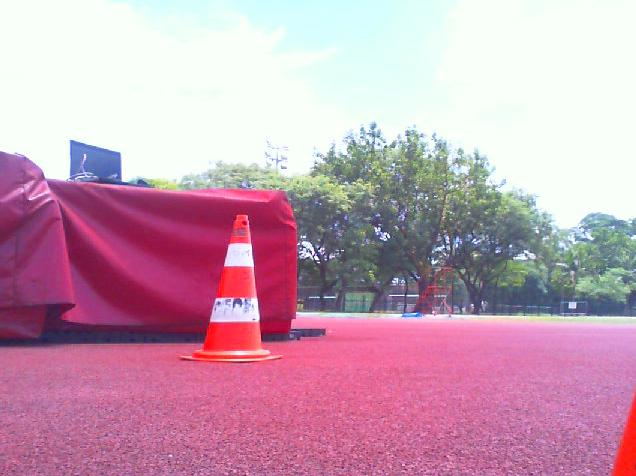0 cone: (180, 214, 284, 363)
